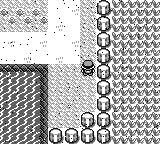captura: (110, 0, 160, 143), (0, 72, 40, 144)
main: (81, 59, 95, 76)
mo: (1, 64, 48, 143)
no-caminable: (49, 0, 110, 143)
